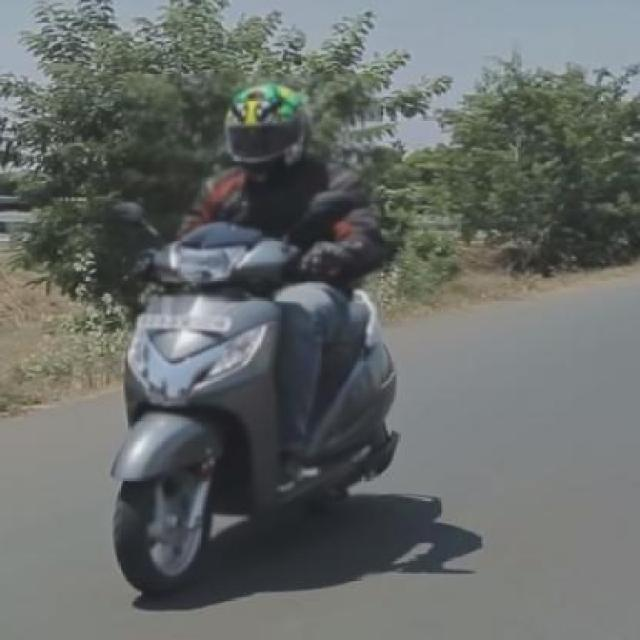helmet: (214, 87, 323, 186)
motorcycle: (89, 84, 418, 610)
